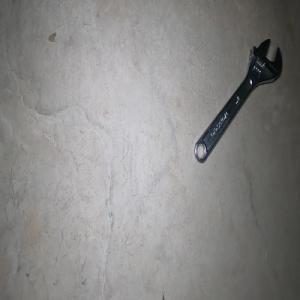Wrench: (193, 38, 282, 163)
